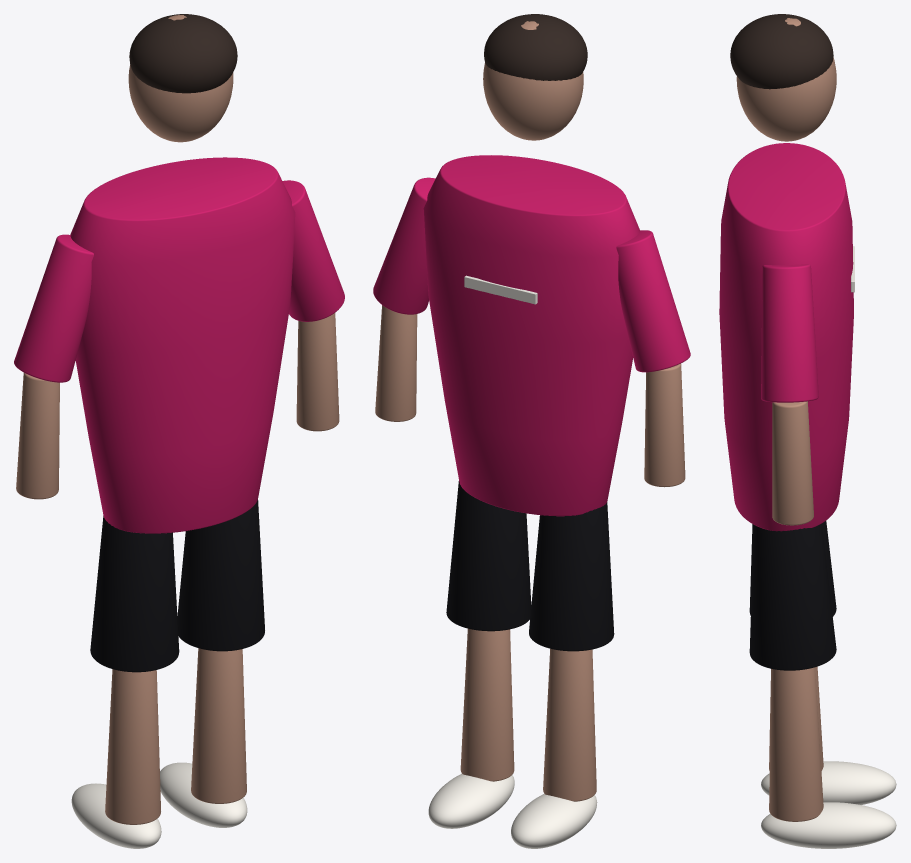
Rendered from athlete-stand.glb.
3 renders of one model, left to right at view 1: azimuth 30°, elevation 25°; view 2: azimuth 150°, elevation 25°; view 3: azimuth 270°, elevation 25°, orthographic. The views are drawn at different scales.
Visible parts, largest first — view 1: GARMENT_TORSO, GARMENT_BIB_LEG_L, GARMENT_BIB_LEG_R, BODY_CALF_R, BODY_CALF_L, GARMENT_SLEEVE_L, BODY_HAIR, GARMENT_SLEEVE_R, BODY_FOREARM_L, BODY_HEAD, BODY_FOREARM_R, SHOE_L (+1 smaller); view 2: GARMENT_TORSO, GARMENT_BIB_LEG_L, GARMENT_BIB_LEG_R, BODY_CALF_R, BODY_CALF_L, GARMENT_SLEEVE_L, BODY_HAIR, BODY_HEAD, GARMENT_SLEEVE_R, BODY_FOREARM_L, BODY_FOREARM_R, SHOE_R (+2 smaller); view 3: GARMENT_TORSO, GARMENT_BIB_LEG_R, BODY_CALF_R, GARMENT_SLEEVE_R, BODY_HAIR, BODY_FOREARM_R, BODY_HEAD, SHOE_R, SHOE_L, GARMENT_BIB_LEG_L, BODY_CALF_L.
Part boxes in pixels (left/top/right/bottom): GARMENT_TORSO: left=70, top=157, right=295, bottom=533; GARMENT_BIB_LEG_L: left=90, top=516, right=179, bottom=672; GARMENT_BIB_LEG_R: left=177, top=499, right=264, bottom=651; BODY_CALF_R: left=191, top=648, right=246, bottom=803; BODY_CALF_L: left=105, top=669, right=160, bottom=824; GARMENT_SLEEVE_L: left=14, top=234, right=93, bottom=382; BODY_HAIR: left=129, top=14, right=237, bottom=93; GARMENT_SLEEVE_R: left=282, top=180, right=344, bottom=321; BODY_FOREARM_L: left=16, top=372, right=59, bottom=499; BODY_HEAD: left=128, top=15, right=233, bottom=142; BODY_FOREARM_R: left=296, top=313, right=339, bottom=431; SHOE_L: left=71, top=783, right=161, bottom=848; GARMENT_TORSO: left=423, top=155, right=639, bottom=516; GARMENT_BIB_LEG_L: left=529, top=502, right=614, bottom=651; GARMENT_BIB_LEG_R: left=446, top=481, right=531, bottom=631; BODY_CALF_R: left=460, top=628, right=514, bottom=781; BODY_CALF_L: left=543, top=649, right=596, bottom=801; GARMENT_SLEEVE_L: left=616, top=230, right=690, bottom=372; BODY_HAIR: left=484, top=14, right=587, bottom=80; BODY_HEAD: left=483, top=21, right=583, bottom=140; GARMENT_SLEEVE_R: left=373, top=177, right=435, bottom=314; BODY_FOREARM_L: left=644, top=363, right=685, bottom=487; BODY_FOREARM_R: left=375, top=305, right=417, bottom=421; SHOE_R: left=428, top=773, right=514, bottom=828; GARMENT_TORSO: left=719, top=143, right=853, bottom=531; GARMENT_BIB_LEG_R: left=749, top=523, right=836, bottom=670; BODY_CALF_R: left=769, top=667, right=823, bottom=821; GARMENT_SLEEVE_R: left=761, top=264, right=818, bottom=402; BODY_HAIR: left=730, top=14, right=833, bottom=89; BODY_FOREARM_R: left=772, top=401, right=813, bottom=525; BODY_HEAD: left=736, top=18, right=836, bottom=141; SHOE_R: left=761, top=802, right=896, bottom=848; SHOE_L: left=761, top=761, right=896, bottom=804; GARMENT_BIB_LEG_L: left=749, top=521, right=836, bottom=616; BODY_CALF_L: left=769, top=666, right=823, bottom=770.
Size of the model in its own units: 1.13 by 2.75 by 0.5485.
